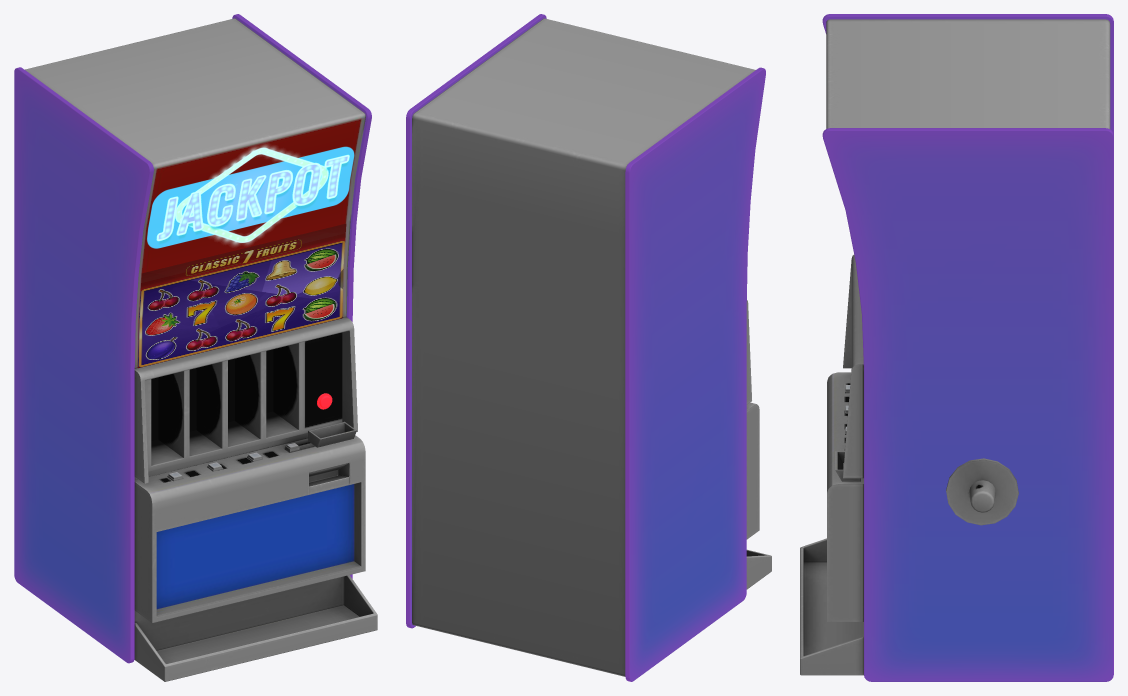
File: slot_machine.glb
3 views of the same model, side by side, from view 1: azimuth 30°, elevation 25°; view 2: azimuth 150°, elevation 25°; view 3: azimuth 270°, elevation 25° (orthographic). The views are drawn at different scales.
Parts seen in each view (by area): view 1: polySurface98, polySurface99, polySurface85, polySurface94, polySurface92, polySurface77, polySurface90, polySurface79, polySurface86; view 2: polySurface99, polySurface98, polySurface79, polySurface85, polySurface77; view 3: polySurface79, polySurface99, polySurface85, polySurface88, polySurface90, polySurface77, polySurface98.
Boxes of the visible parts, x1,y1,x2,y2 form: polySurface98: (14,67,153,663); polySurface99: (25,18,365,650); polySurface85: (134,317,365,622); polySurface94: (138,223,346,368); polySurface92: (147,144,354,248); polySurface77: (134,575,377,681); polySurface90: (156,605,359,663); polySurface79: (232,14,371,578); polySurface86: (308,421,356,447); polySurface99: (412,18,755,676); polySurface98: (625,67,765,681); polySurface79: (406,14,546,628); polySurface85: (746,300,759,539); polySurface77: (746,549,771,589); polySurface79: (822,128,1113,681); polySurface99: (826,19,1110,128); polySurface85: (827,254,863,621); polySurface88: (946,458,1018,525); polySurface90: (803,562,863,655); polySurface77: (800,538,863,675); polySurface98: (822,14,1113,134).
Size of the model in its own units: 0.9095 by 1.83 by 0.9416.
5 materials, 4 textured.
